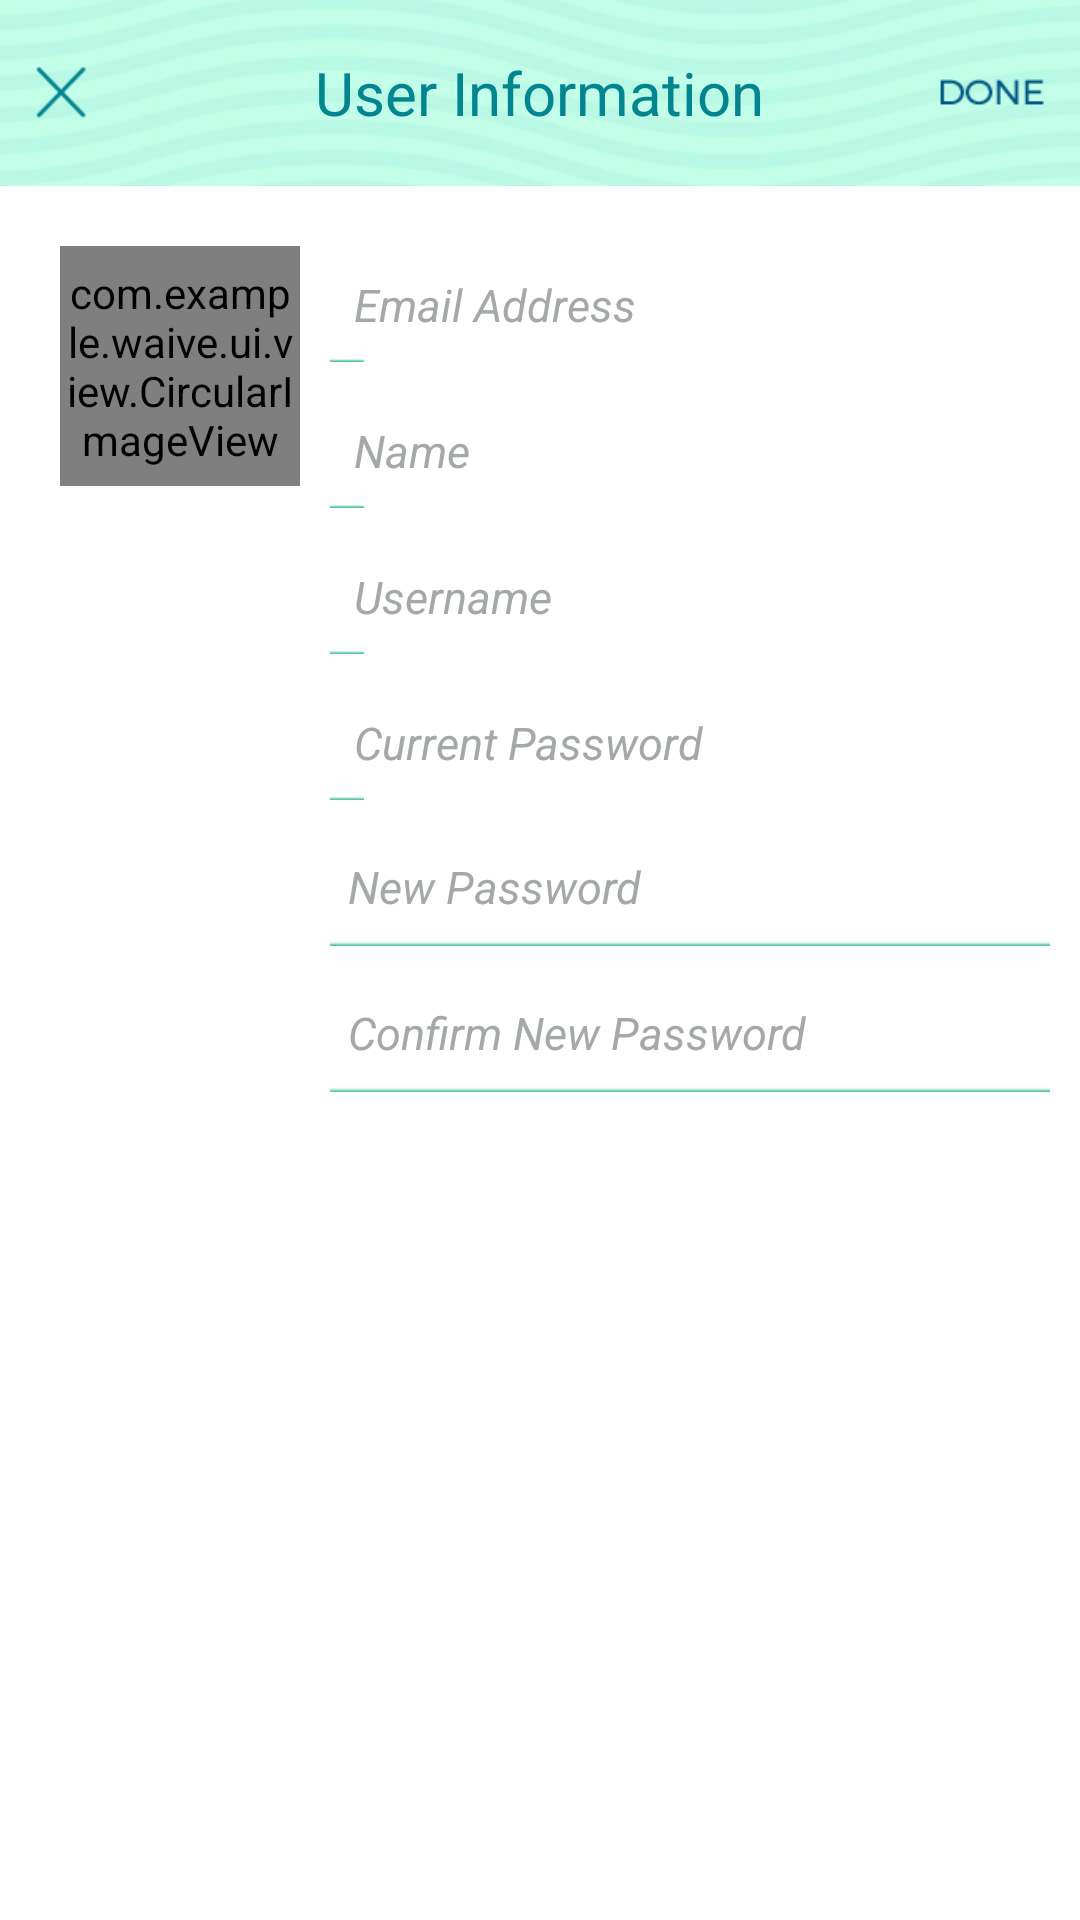

Where icons sit on this 1080px x 1920px app screen, as (x1, y1, x2, y2):
close: (36, 67, 86, 118)
